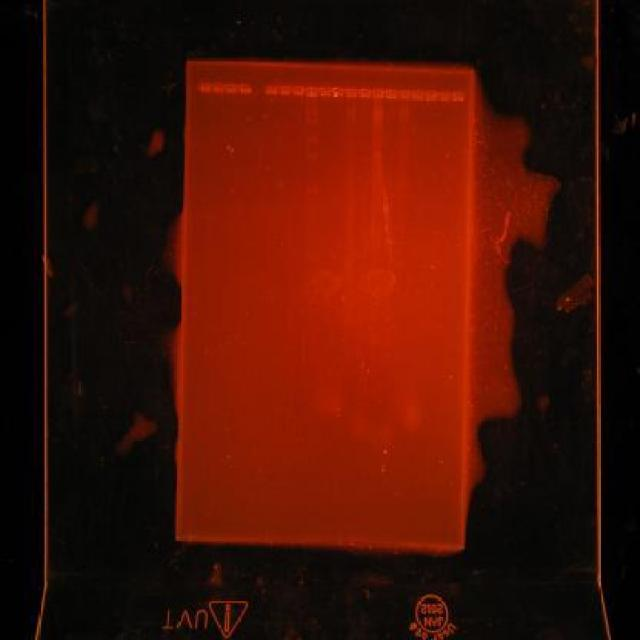L: (195, 78, 468, 106)
M: (304, 82, 320, 276)
P: (305, 250, 318, 261), (304, 187, 318, 195), (305, 152, 318, 160), (305, 136, 318, 144), (305, 118, 318, 126), (305, 110, 318, 116)
Pc: (264, 84, 278, 96), (358, 88, 372, 100), (438, 90, 452, 102), (424, 90, 438, 102), (198, 82, 212, 93), (212, 83, 226, 94), (224, 84, 238, 95), (238, 84, 252, 95), (292, 86, 306, 97), (344, 88, 358, 99), (412, 90, 426, 101), (398, 89, 412, 100), (384, 89, 398, 100), (372, 89, 386, 100), (305, 86, 318, 97), (319, 87, 332, 98), (332, 87, 345, 98), (451, 91, 464, 102), (278, 86, 291, 95)
